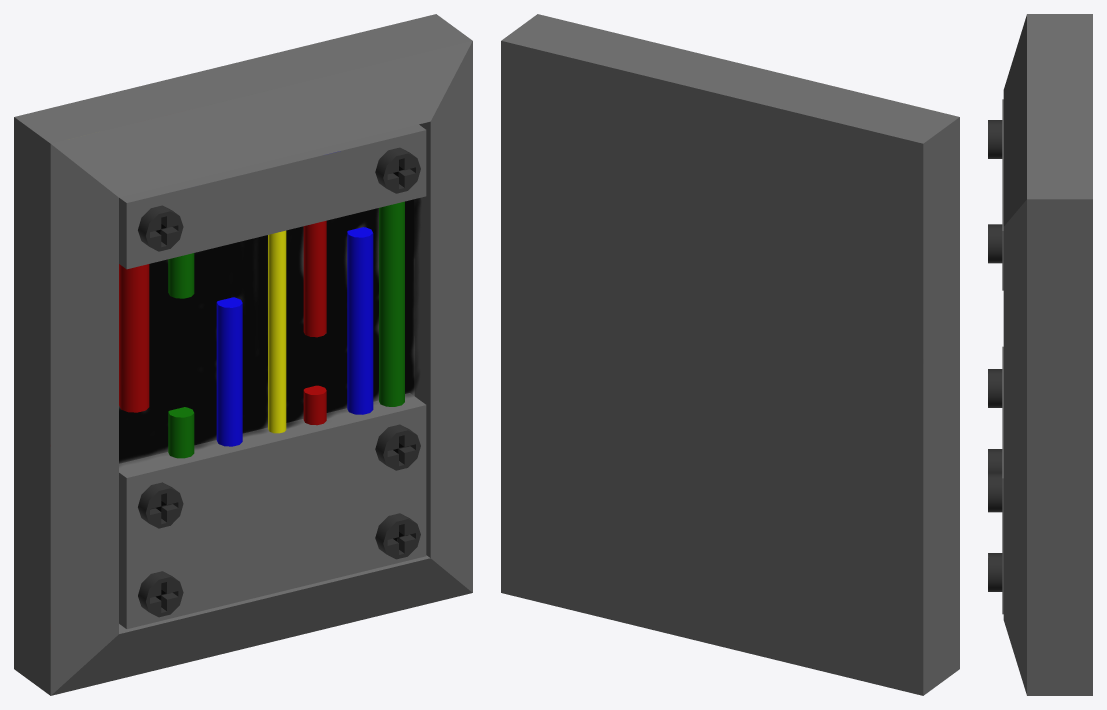
The model's file is Wire Cable Panel.fbx.
3 views of the same model, side by side, from view 1: azimuth 30°, elevation 25°; view 2: azimuth 150°, elevation 25°; view 3: azimuth 270°, elevation 25° (orthographic). The views are drawn at different scales.
Visible parts, largest first — view 1: Base, Panel001, Panel002, Wire007, Wire006, Wire001, Wire003, Wire004, Wire005, screw003, screw007, screw004 (+6 smaller); view 2: Base; view 3: Base, screw003, screw007, screw002, screw005, screw006, Panel001, Panel002, screw004.
Boxes of the visible parts, x1,y1,x2,y2 form: Base: [14, 14, 472, 695]; Panel001: [119, 393, 426, 628]; Panel002: [119, 124, 426, 269]; Wire007: [379, 201, 404, 406]; Wire006: [347, 227, 373, 414]; Wire001: [119, 264, 149, 412]; Wire003: [216, 297, 242, 446]; Wire004: [268, 230, 286, 433]; Wire005: [303, 220, 326, 337]; screw003: [375, 424, 420, 470]; screw007: [375, 147, 420, 193]; screw004: [138, 571, 183, 617]; Base: [501, 14, 959, 695]; Base: [1003, 14, 1092, 695]; screw003: [988, 473, 1002, 512]; screw007: [988, 224, 1002, 263]; screw002: [988, 369, 1002, 407]; screw005: [988, 553, 1002, 591]; screw006: [988, 120, 1002, 158]; Panel001: [1002, 346, 1003, 614]; Panel002: [1002, 99, 1003, 290]; screw004: [988, 449, 1002, 473].
Size of the model in its own units: 20 by 25 by 4.77.
1 material, 1 textured.
